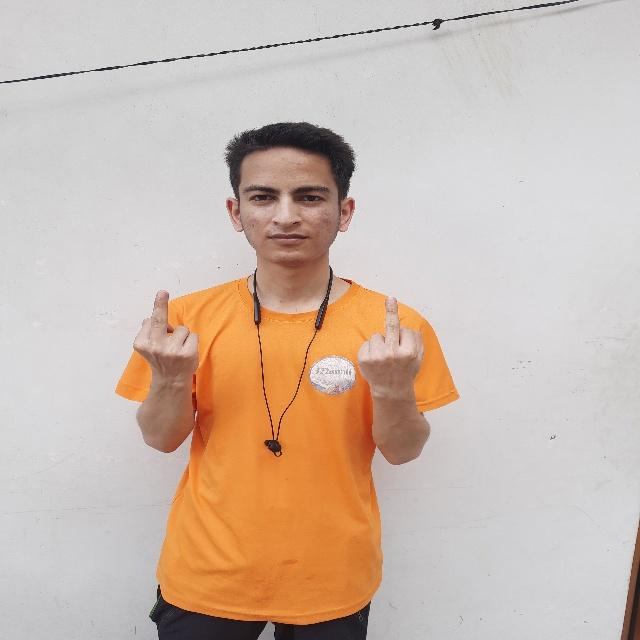Middle Finger: (349, 289, 431, 406), (125, 285, 208, 395)
